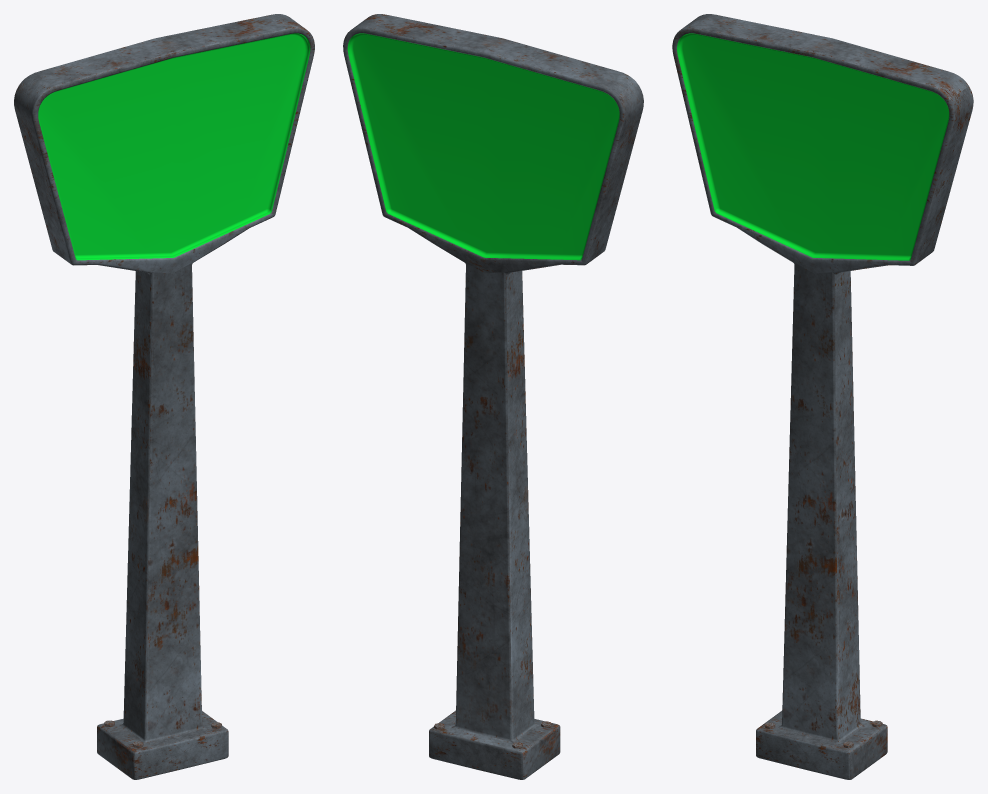
File: GasStationSign.fbx
3 views of the same model, side by side, from view 1: azimuth 30°, elevation 25°; view 2: azimuth 150°, elevation 25°; view 3: azimuth 330°, elevation 25° (orthographic).
Visible parts, largest first — view 1: GasStationSign; view 2: GasStationSign; view 3: GasStationSign.
Part boxes in pixels (x1,y1,x2,y2): GasStationSign: (14, 14, 314, 779); GasStationSign: (343, 14, 643, 779); GasStationSign: (672, 14, 973, 779).
Bounding box in the file's own units: 383 × 920 × 89.86.
Materials: 3 (2 with a texture image).
